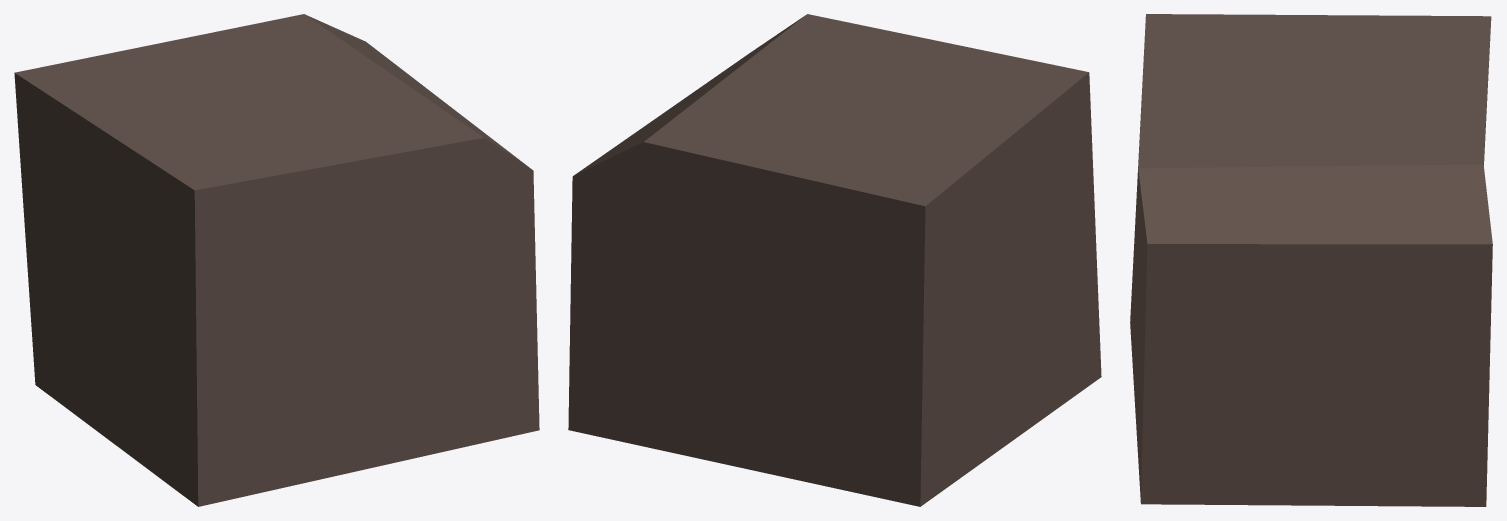
File: beam_08.fbx
3 renders of one model, left to right at view 1: azimuth 30°, elevation 25°; view 2: azimuth 150°, elevation 25°; view 3: azimuth 270°, elevation 25°, orthographic.
Parts seen in each view (by area): view 1: beam_08; view 2: beam_08; view 3: beam_08.
Part boxes in pixels (bbox=[...]): beam_08: bbox=[14, 14, 539, 506]; beam_08: bbox=[568, 14, 1101, 506]; beam_08: bbox=[1130, 14, 1492, 506].
Size of the model in its own units: 16.64 by 14.21 by 14.48.
1 material, 1 textured.
